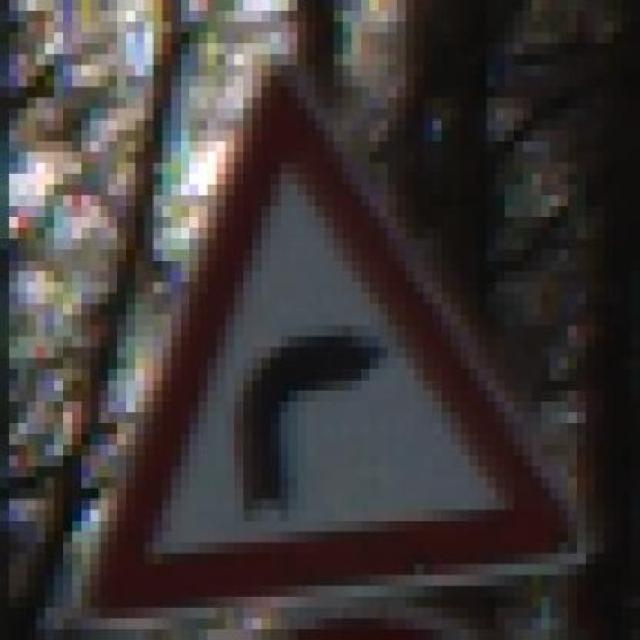Dangerous Rright Curve Ahead: (80, 54, 578, 608)
